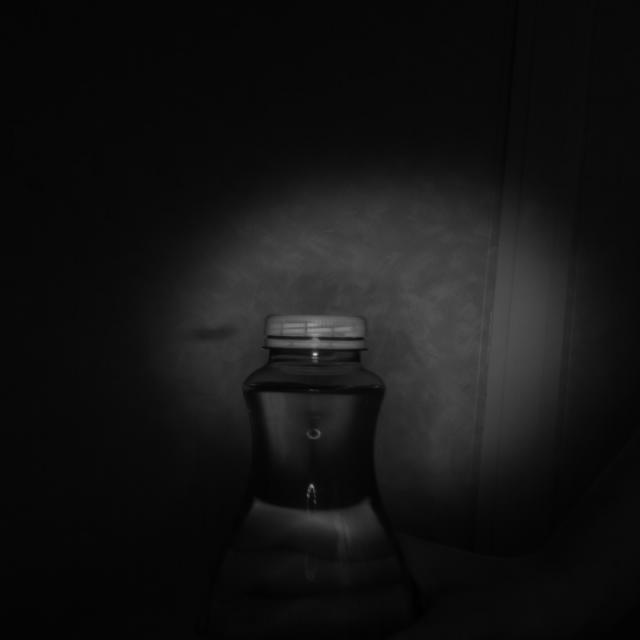Not Good: (264, 312, 367, 351)
